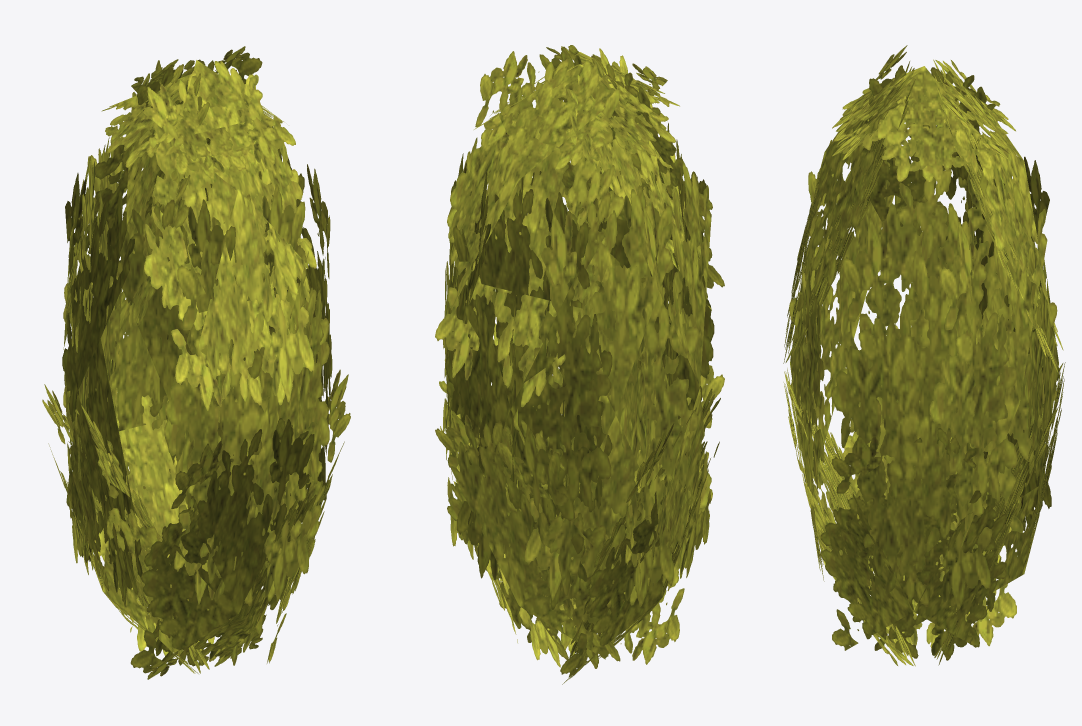
File: Bush_Long.fbx
3 renders of one model, left to right at view 1: azimuth 30°, elevation 25°; view 2: azimuth 150°, elevation 25°; view 3: azimuth 270°, elevation 25°, orthographic. The views are drawn at different scales.
Visible parts, largest first — view 1: Bush_Long; view 2: Bush_Long; view 3: Bush_Long.
Part boxes in pixels (left/top/right/bottom): Bush_Long: left=42, top=46, right=350, bottom=679; Bush_Long: left=435, top=45, right=724, bottom=684; Bush_Long: left=783, top=45, right=1065, bottom=666.
Bounding box in the file's own units: 12.11 × 28.21 × 12.11.
